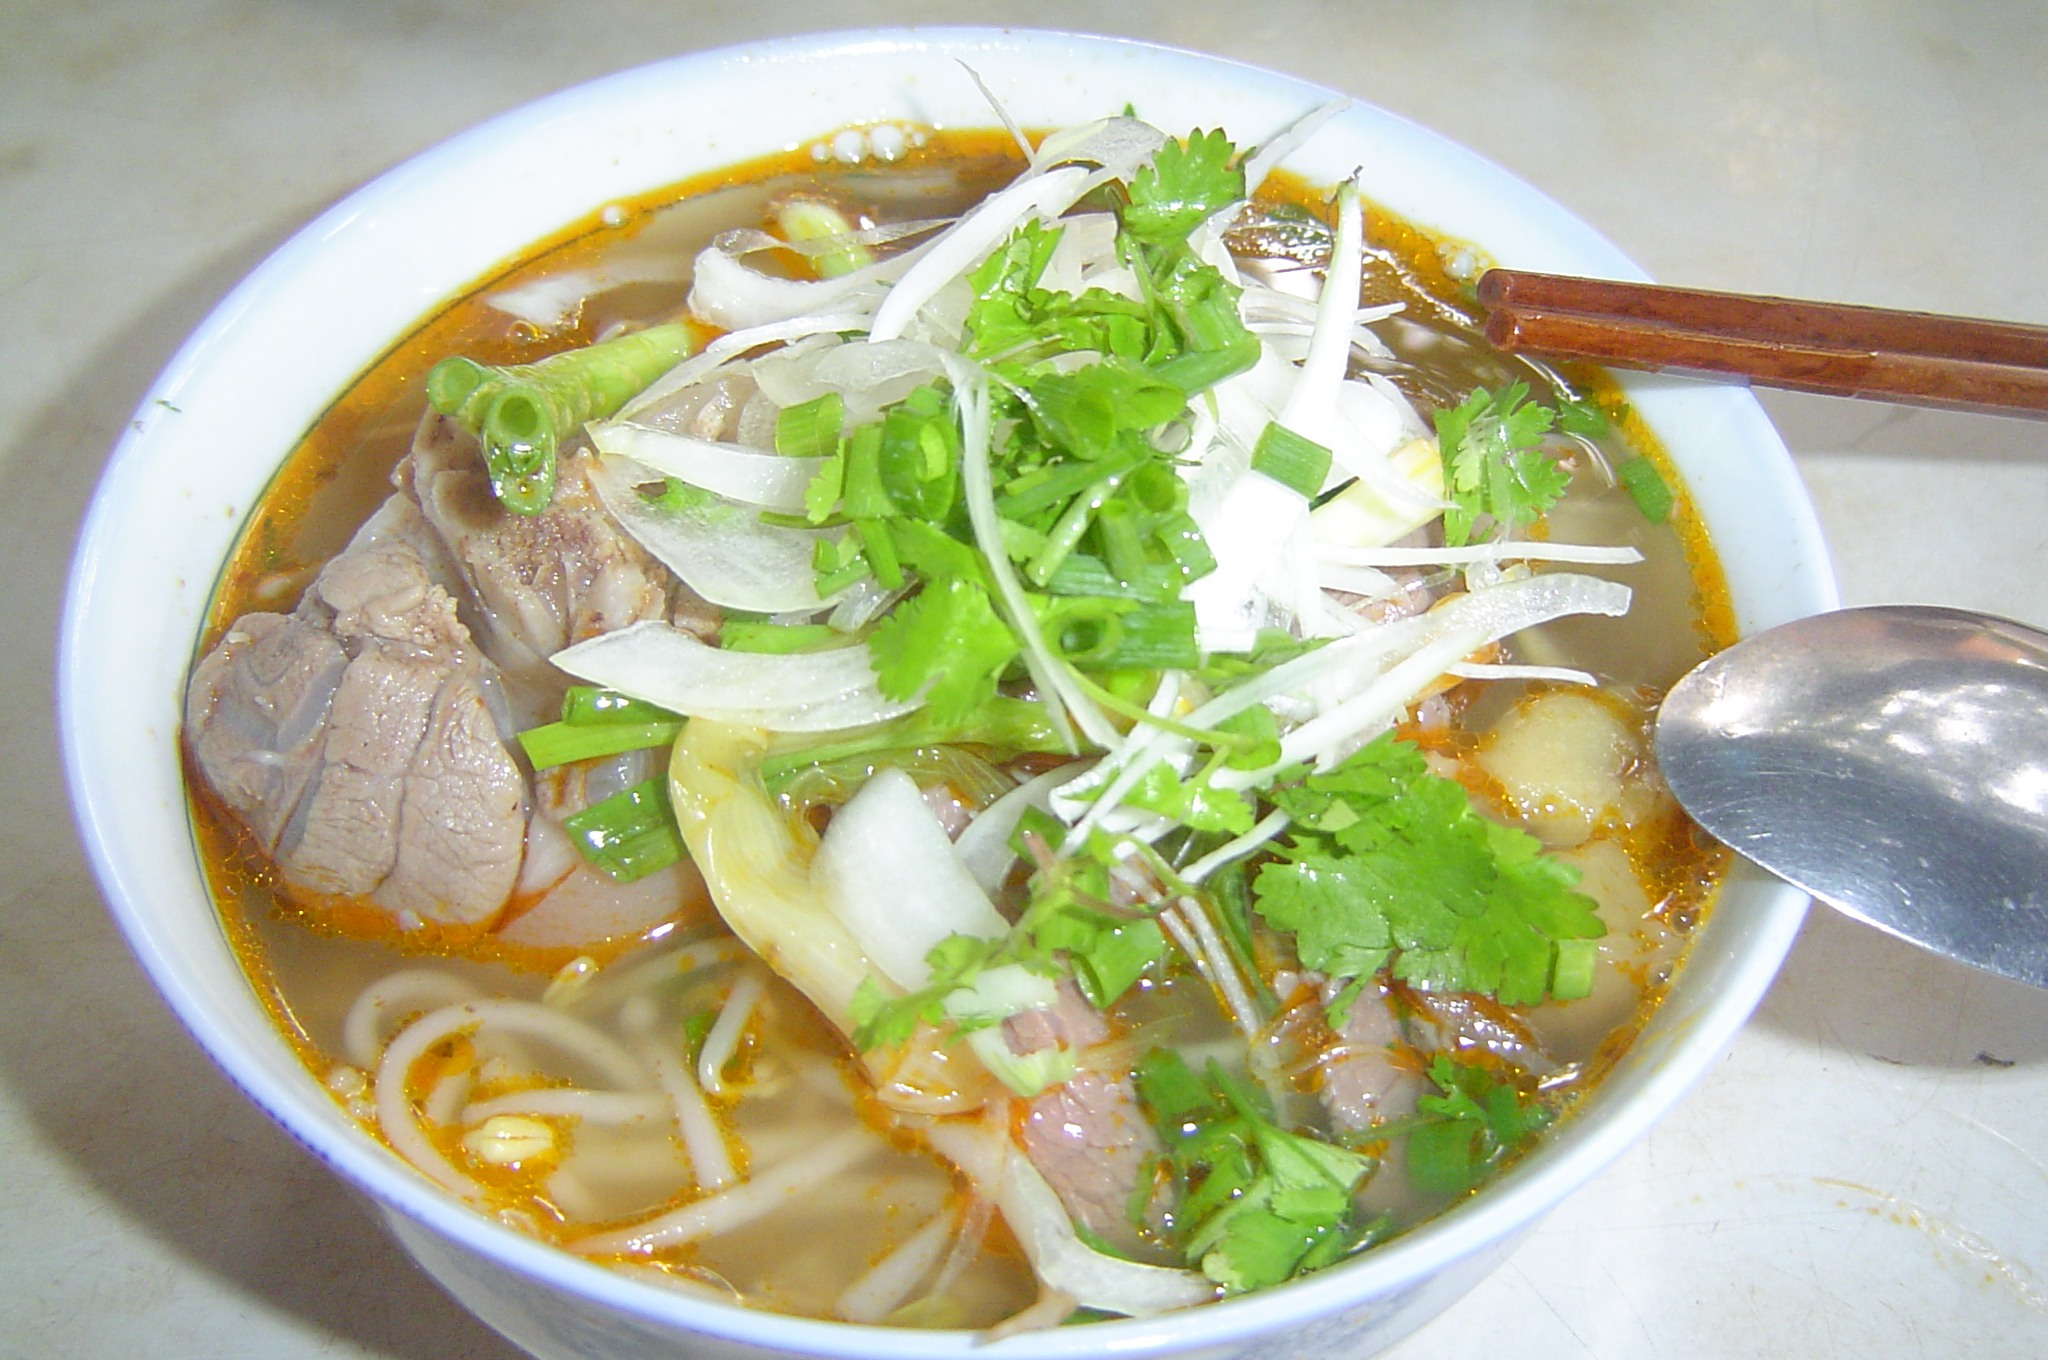onion: (745, 290, 1139, 738), (1183, 285, 1497, 644)
pork: (202, 572, 669, 937)
